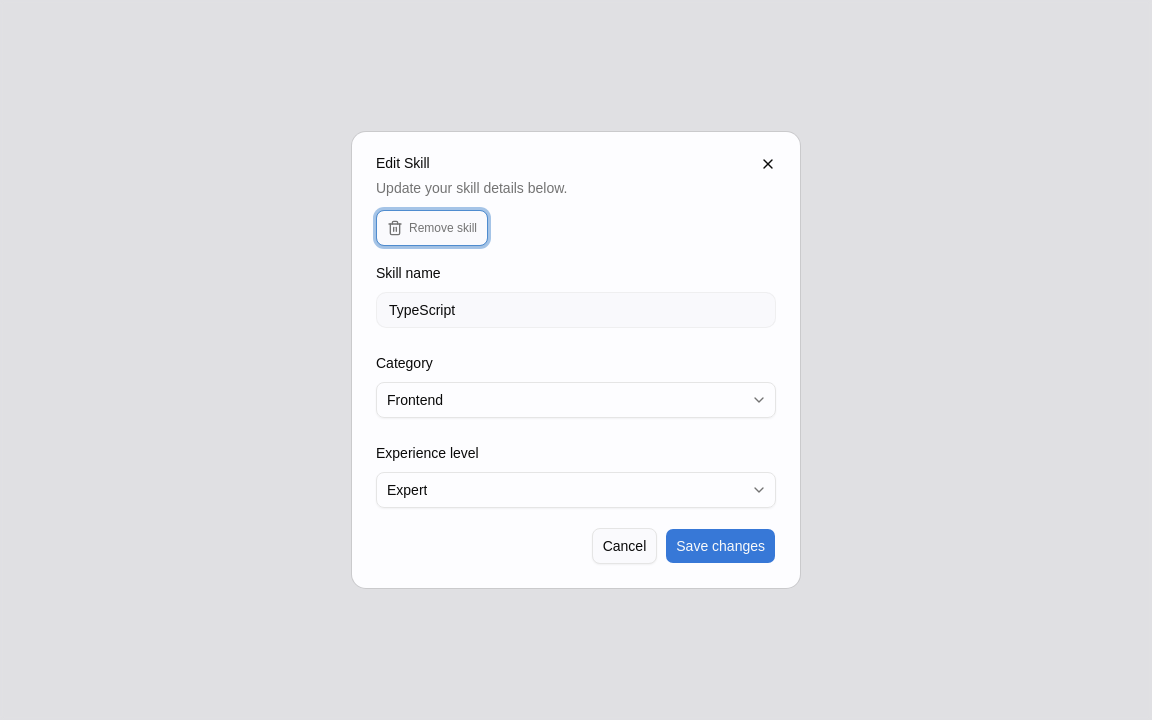
Test: EditSkillDialog › can change the category via the select
Click the dropdown named "category" at (415, 400), box [376,382,776,418]
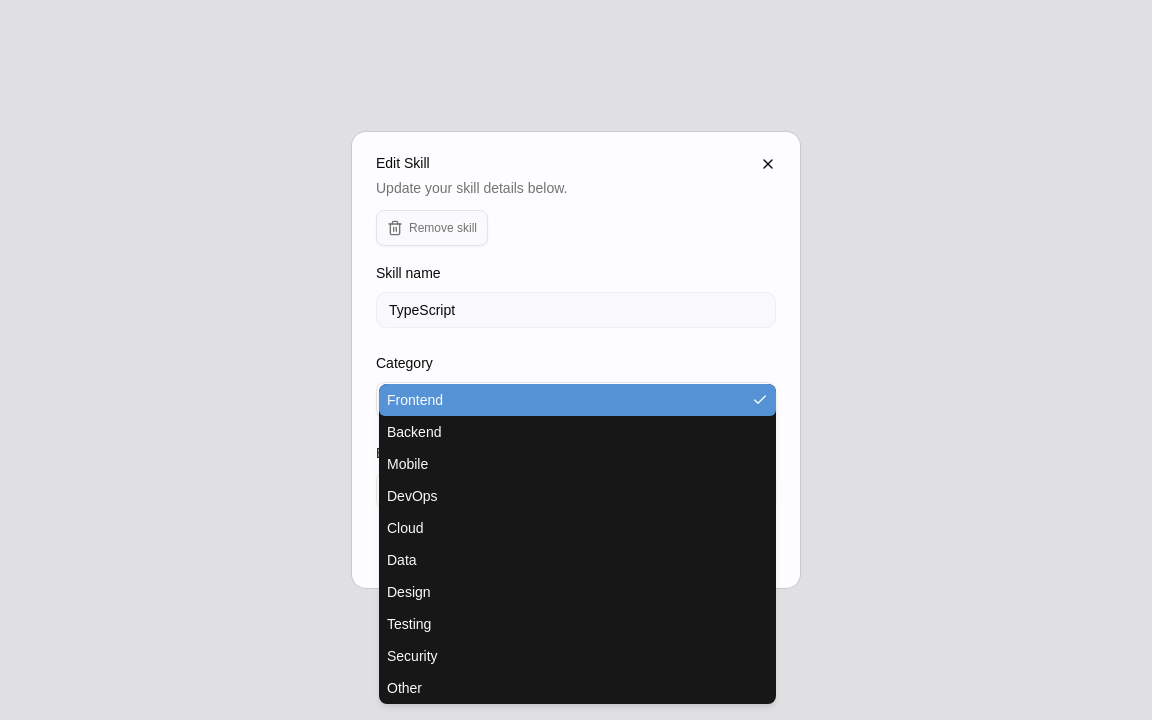
Click the option "Backend" at (414, 432), box [387,424,442,440]
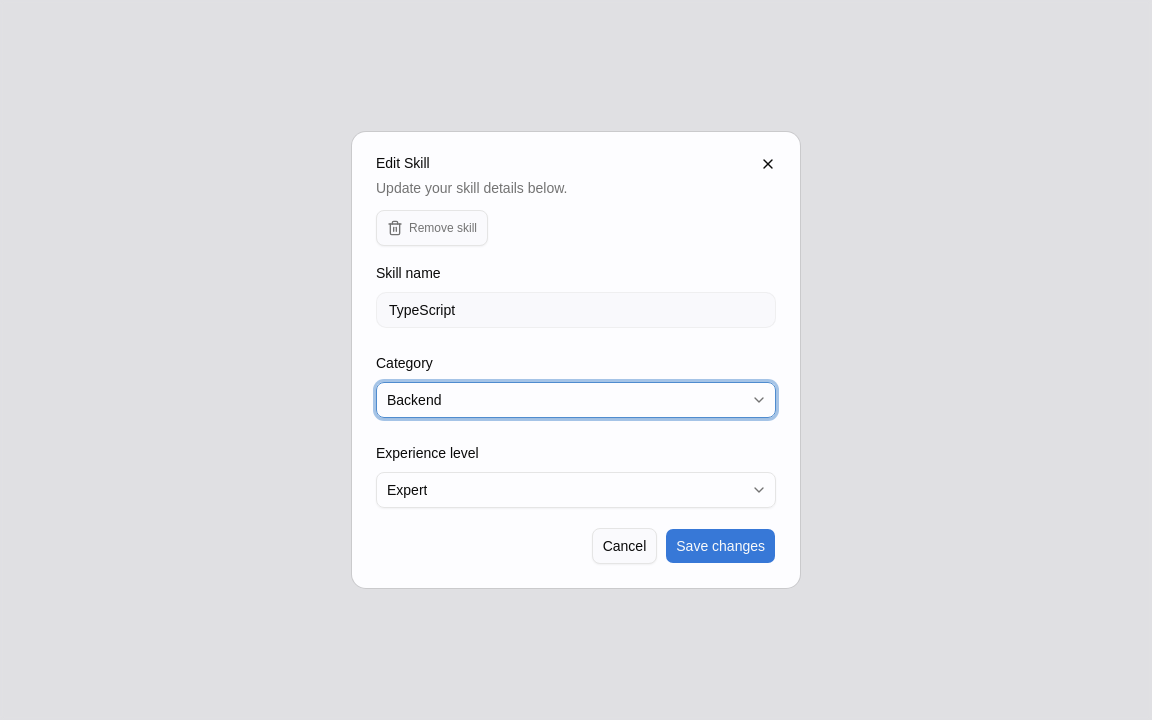
Check: the dropdown named "category" reads "Backend", box [376,382,776,418]
